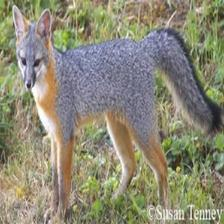fox: (0, 0, 224, 203)
